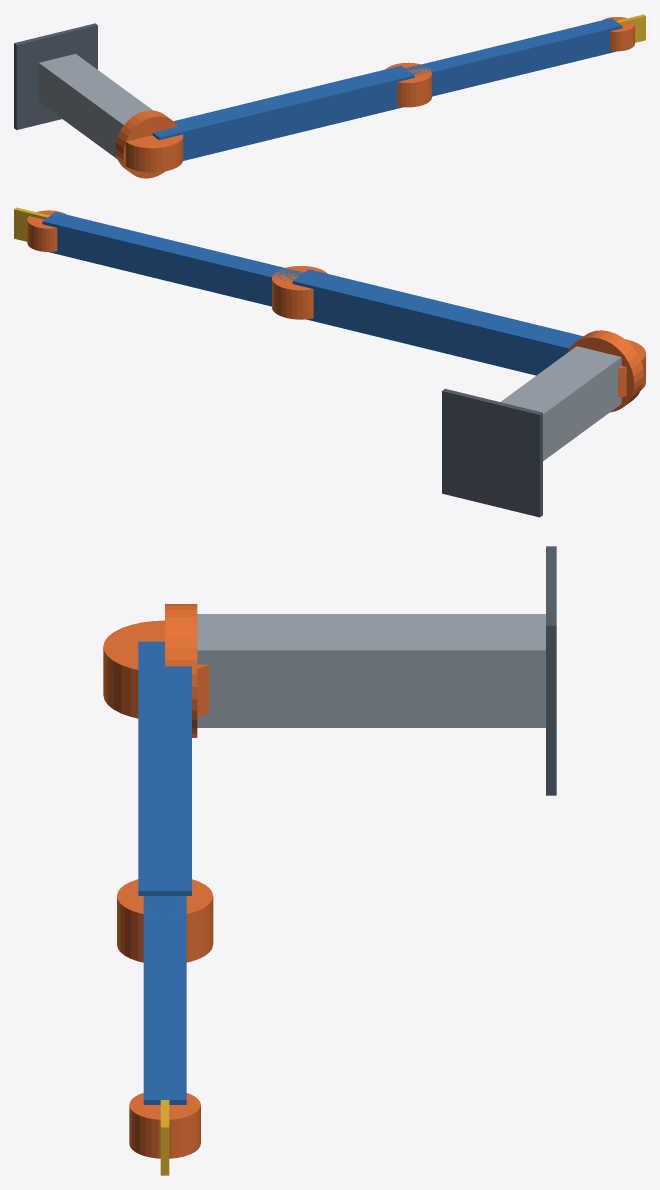
The model's file is agastya_arm_envelope.obj.
The picture shows the model from 3 angles, top to bottom: view 1: azimuth 30°, elevation 25°; view 2: azimuth 150°, elevation 25°; view 3: azimuth 270°, elevation 25°; orthographic projection. The views are drawn at different scales.
Visible parts, largest first — view 1: LINK-01, LINK-02, PEDESTAL-01, BASE-01, J2-SHOULDER, J1-YAW, J3-ELBOW, J4-WRIST, TOOL-00-PLACEHOLDER; view 2: LINK-01, BASE-01, LINK-02, PEDESTAL-01, J1-YAW, J3-ELBOW, J4-WRIST, TOOL-00-PLACEHOLDER, J2-SHOULDER; view 3: PEDESTAL-01, LINK-01, LINK-02, J2-SHOULDER, J3-ELBOW, J4-WRIST, BASE-01, J1-YAW.
Boxes of the visible parts, box(x1,y1,x2,y2) form: LINK-01: box(152, 65, 414, 160); LINK-02: box(405, 18, 622, 96); PEDESTAL-01: box(38, 54, 152, 158); BASE-01: box(14, 23, 97, 129); J2-SHOULDER: box(125, 134, 183, 172); J1-YAW: box(115, 110, 177, 178); J3-ELBOW: box(386, 62, 431, 107); J4-WRIST: box(602, 17, 634, 51); TOOL-00-PLACEHOLDER: box(616, 14, 645, 42); LINK-01: box(292, 269, 583, 375); BASE-01: box(442, 388, 542, 517); LINK-02: box(42, 212, 303, 306); PEDESTAL-01: box(500, 346, 621, 460); J1-YAW: box(567, 330, 643, 412); J3-ELBOW: box(272, 266, 327, 319); J4-WRIST: box(27, 210, 66, 251); TOOL-00-PLACEHOLDER: box(14, 207, 49, 241); J2-SHOULDER: box(618, 339, 645, 397); PEDESTAL-01: box(197, 614, 545, 727); LINK-01: box(138, 641, 191, 895); LINK-02: box(143, 896, 186, 1104); J2-SHOULDER: box(103, 620, 209, 718); J3-ELBOW: box(117, 879, 213, 962); J4-WRIST: box(129, 1093, 200, 1158); BASE-01: box(546, 546, 556, 795); J1-YAW: box(165, 604, 197, 737).
Size of the model in its own units: 2295 by 350 by 845.
